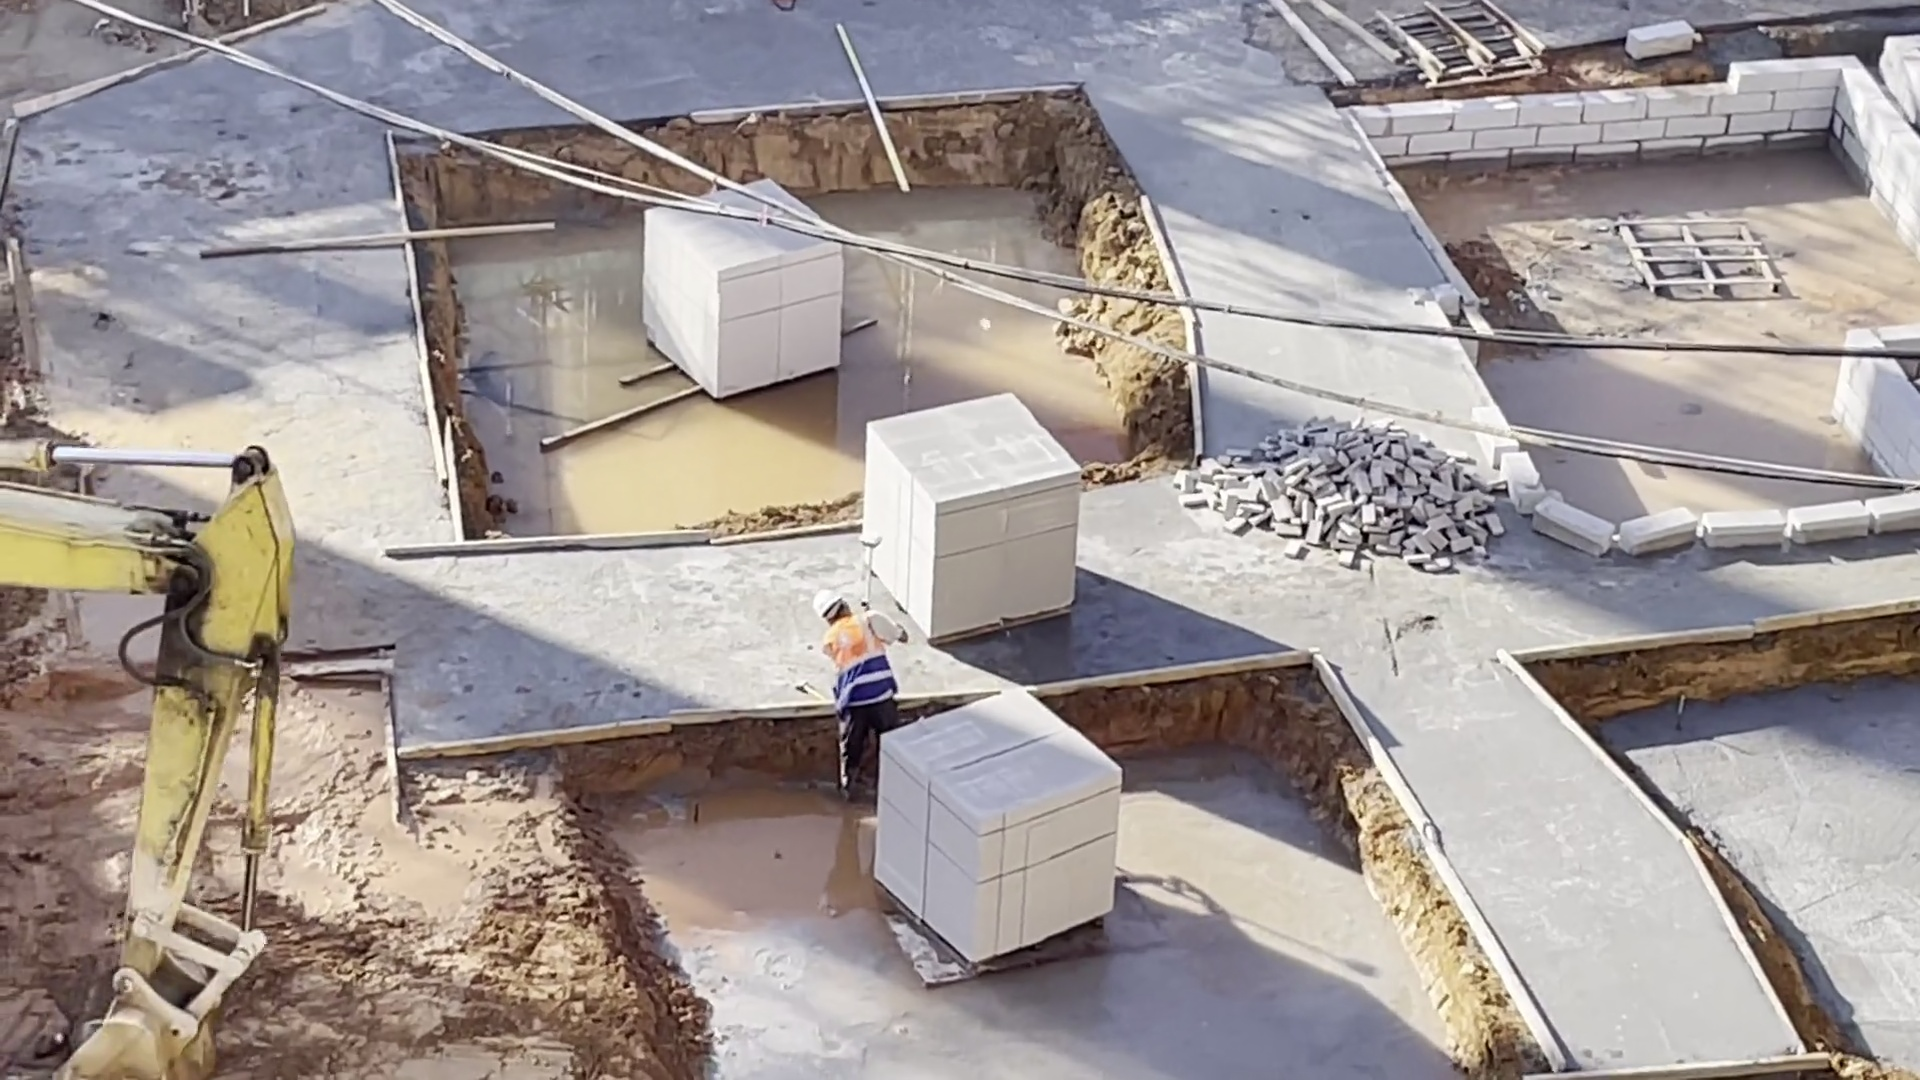brick: (870, 684, 1124, 974), (1187, 412, 1526, 581), (859, 393, 1089, 637), (635, 174, 856, 402)
helmet: (810, 587, 843, 619)
person: (813, 576, 899, 825)
vest: (828, 609, 897, 716)
